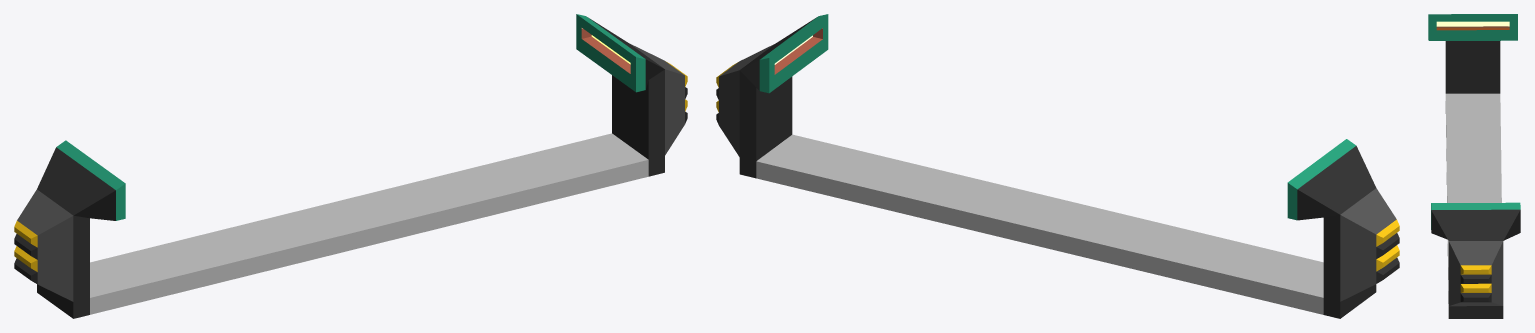
File: Holograma_Projetor.gltf
3 renders of one model, left to right at view 1: azimuth 30°, elevation 25°; view 2: azimuth 150°, elevation 25°; view 3: azimuth 270°, elevation 25°, orthographic. The views are drawn at different scales.
Parts seen in each view (by area): view 1: Projetor; view 2: Projetor; view 3: Projetor.
Part boxes in pixels (box(x1,y1,x2,y2)): Projetor: box(14, 14, 687, 318); Projetor: box(716, 14, 1399, 318); Projetor: box(1428, 14, 1520, 318).
Size of the model in its own units: 3.99 by 0.7751 by 0.6402.
2 materials, 1 textured.
